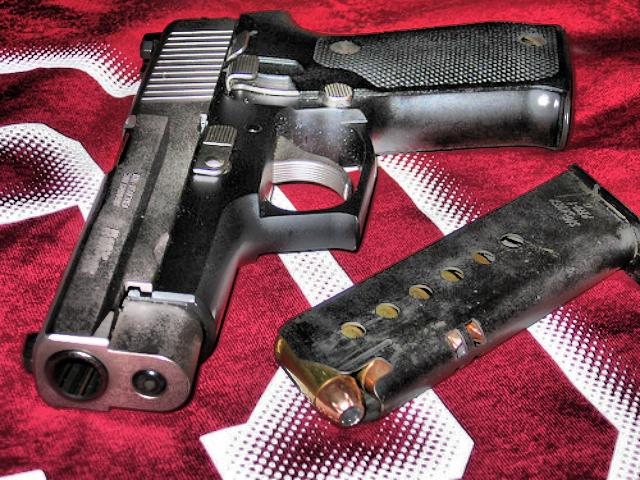pistol: (23, 8, 570, 410)
